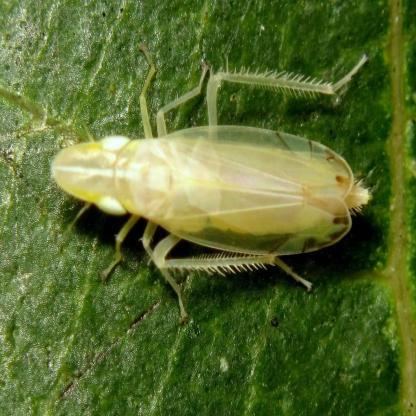green-leafhopper: (49, 75, 370, 272)
